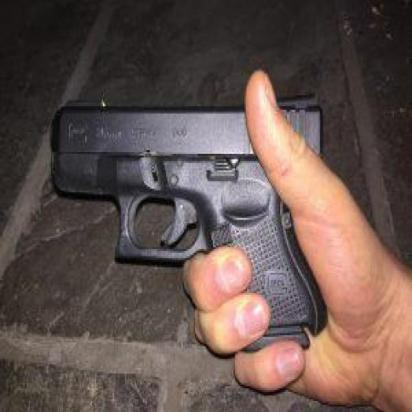Gun: (40, 94, 338, 356)
